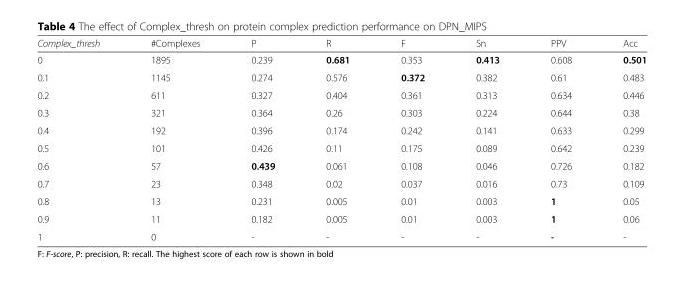table: (36, 37, 646, 242)
table column: (124, 37, 224, 242), (36, 37, 124, 242), (224, 37, 299, 242), (299, 37, 374, 242), (374, 37, 449, 242), (449, 37, 524, 242), (524, 37, 596, 242), (596, 37, 646, 242)
table column header: (36, 37, 646, 50)
table row: (36, 50, 646, 68), (36, 85, 646, 103), (36, 103, 646, 121), (36, 121, 646, 139), (36, 156, 646, 174), (36, 174, 646, 192), (36, 209, 646, 227), (36, 68, 646, 85), (36, 139, 646, 156), (36, 192, 646, 209), (36, 227, 646, 242), (36, 37, 646, 50)
